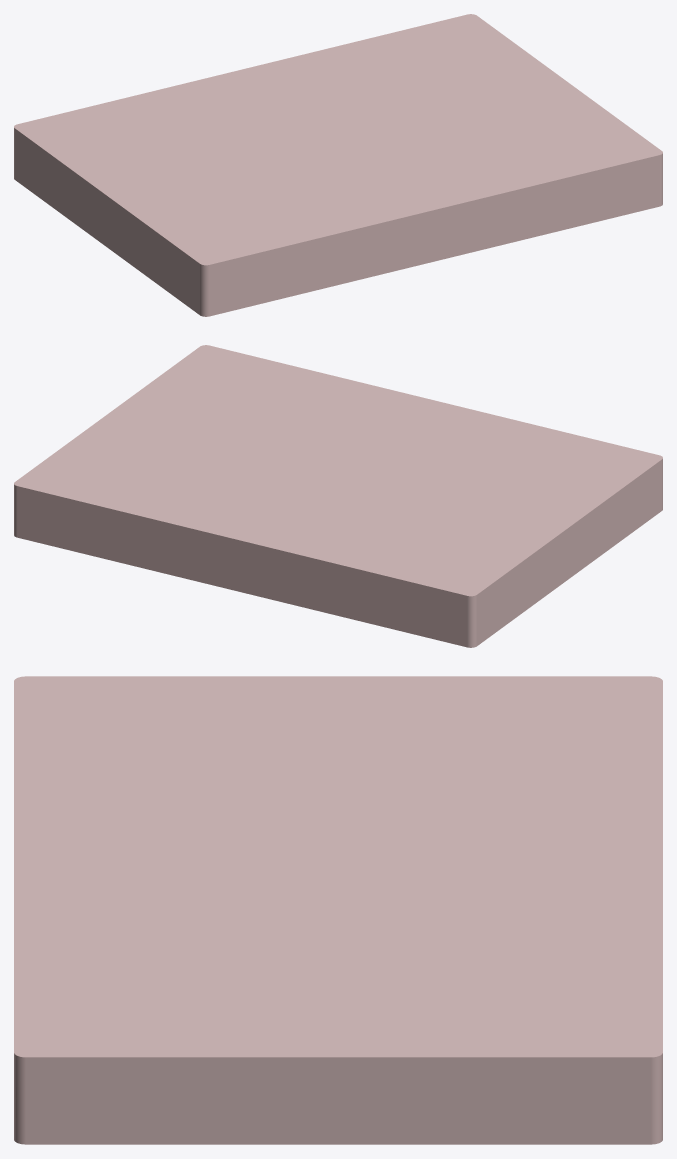
Rendered from OUTFITTING_INTERIOR__INT. FURNISHING__dbl mattress.glb.
3 renders of one model, top to bottom at view 1: azimuth 30°, elevation 25°; view 2: azimuth 150°, elevation 25°; view 3: azimuth 270°, elevation 25°, orthographic. The views are drawn at different scales.
Visible parts, largest first — view 1: dbl mattress; view 2: dbl mattress; view 3: dbl mattress.
Part boxes in pixels (<box>): dbl mattress: <box>14,14,662,316</box>; dbl mattress: <box>14,345,662,647</box>; dbl mattress: <box>14,676,662,1144</box>.
Size of the model in its own units: 1.91 by 0.2032 by 1.37.
